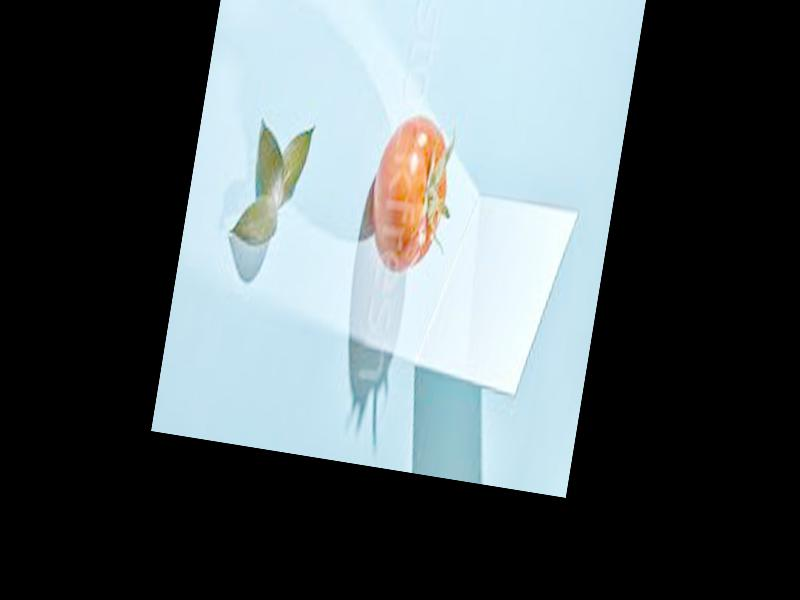Tomato: (361, 106, 459, 278)
